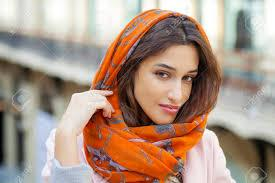scarf-kerchief: (81, 1, 224, 182)
